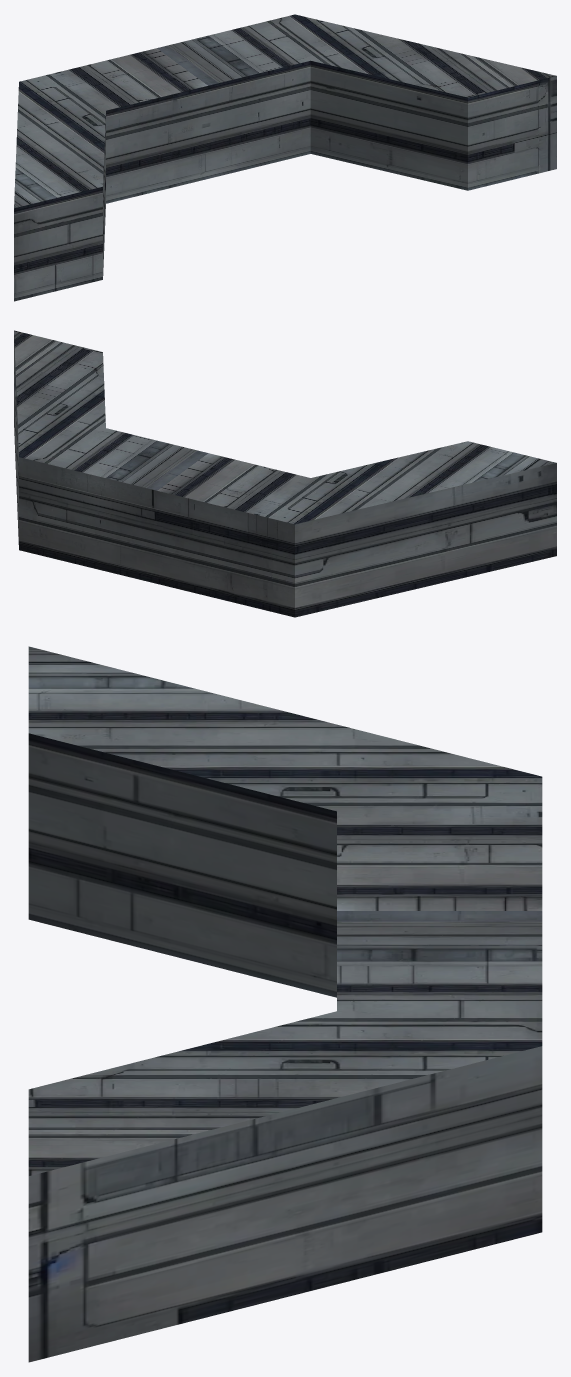
File: arch.fbx
The picture shows the model from 3 angles, top to bottom: view 1: azimuth 30°, elevation 25°; view 2: azimuth 150°, elevation 25°; view 3: azimuth 270°, elevation 25°; orthographic projection. The views are drawn at different scales.
Visible parts, largest first — view 1: Arch; view 2: Arch; view 3: Arch.
Boxes of the visible parts, x1=… form: Arch: x1=14, y1=14, x2=556, y2=301; Arch: x1=14, y1=330, x2=556, y2=617; Arch: x1=28, y1=646, x2=542, y2=1362.
Bounding box in the file's own units: 1220 × 200 × 500.
